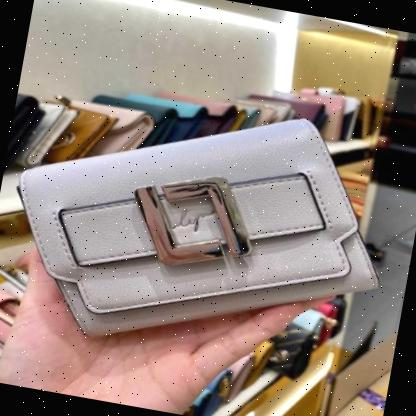bag: (0, 66, 409, 388)
